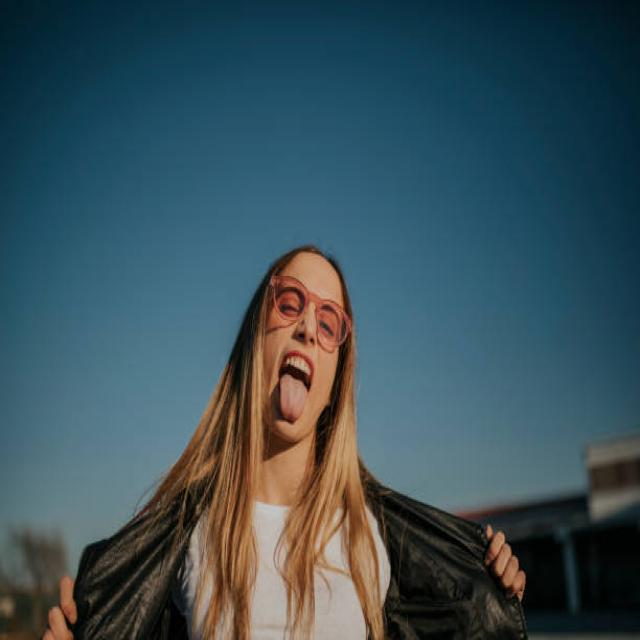tongue: (279, 375, 309, 421)
